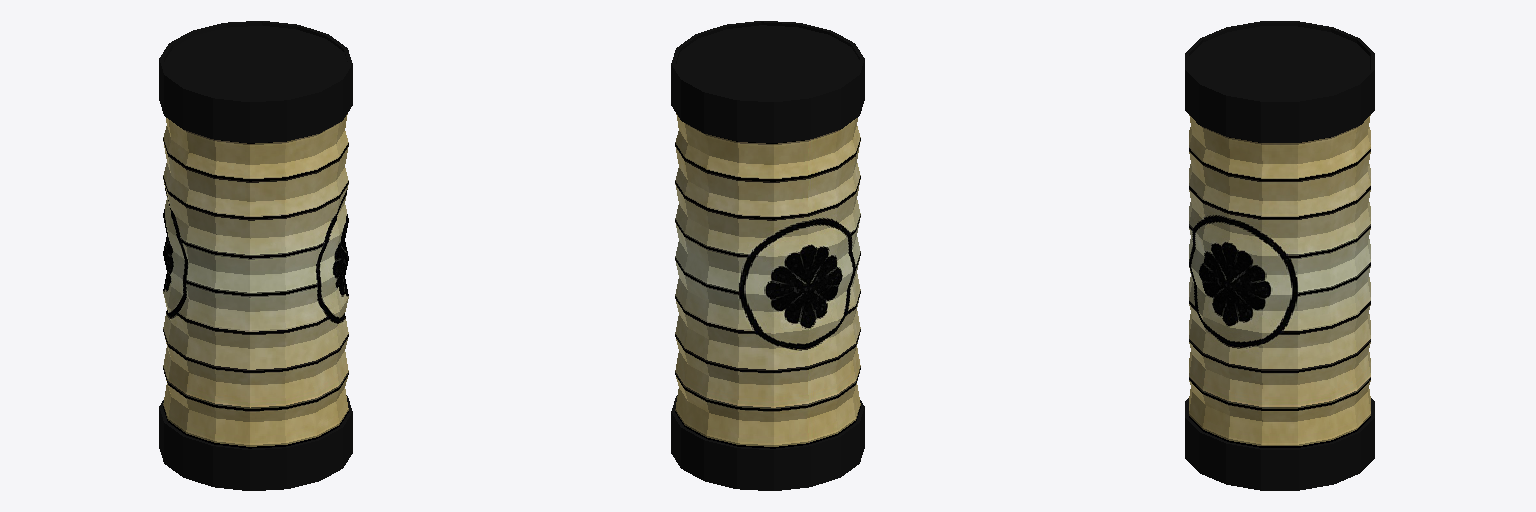
3 renders of one model, left to right at view 1: azimuth 30°, elevation 25°; view 2: azimuth 150°, elevation 25°; view 3: azimuth 270°, elevation 25°, orthographic.
Parts seen in each view (by area): view 1: Japanese_Lantern_01_Japanese_Lantern; view 2: Japanese_Lantern_01_Japanese_Lantern; view 3: Japanese_Lantern_01_Japanese_Lantern.
Boxes of the visible parts, <box> form: Japanese_Lantern_01_Japanese_Lantern: <box>159,21,352,490</box>; Japanese_Lantern_01_Japanese_Lantern: <box>671,21,864,490</box>; Japanese_Lantern_01_Japanese_Lantern: <box>1185,21,1374,490</box>.
Size of the model in its own units: 15.59 by 35.15 by 15.59.
Materials: 2 (1 with a texture image).